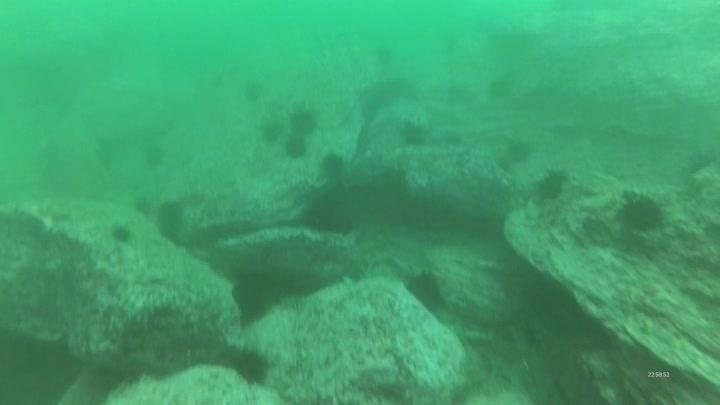echinus: (617, 190, 667, 234), (230, 276, 273, 325), (302, 198, 356, 237), (227, 345, 272, 388), (403, 269, 446, 313), (534, 168, 570, 203), (154, 199, 186, 238), (287, 105, 321, 138), (398, 120, 430, 150), (318, 151, 348, 182), (504, 137, 534, 167), (485, 75, 515, 103), (141, 142, 168, 171), (283, 134, 310, 161), (259, 117, 285, 145), (240, 78, 266, 104), (372, 42, 398, 68), (108, 222, 134, 246), (132, 194, 155, 219)
holothurian: (113, 291, 184, 320)
